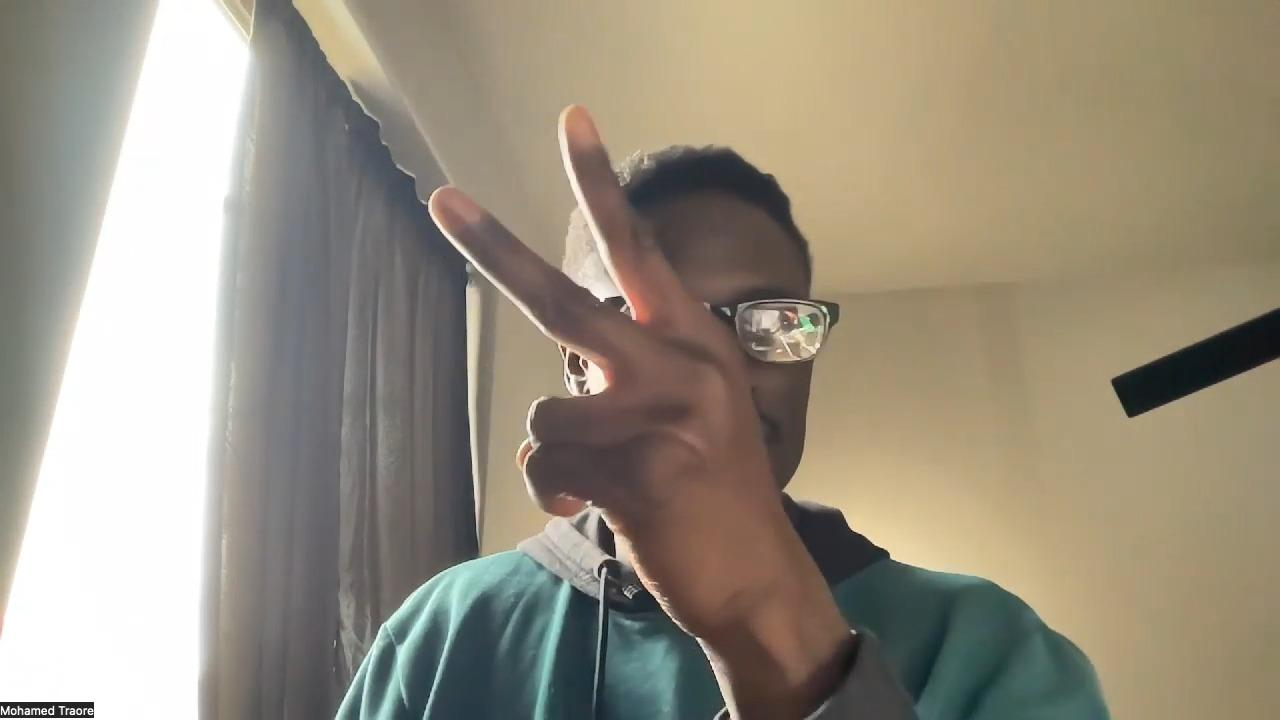Scissors: (430, 102, 807, 641)
